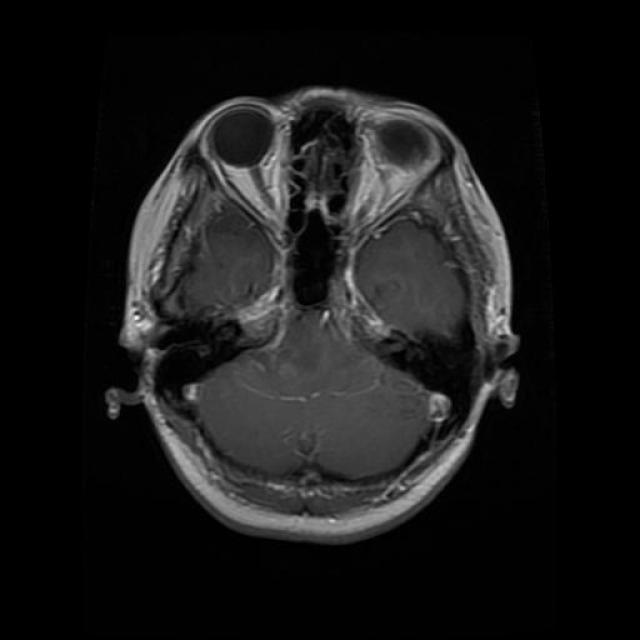Brain-Tumor: (229, 329, 413, 417)
eye: (192, 85, 308, 258), (349, 87, 441, 264)
